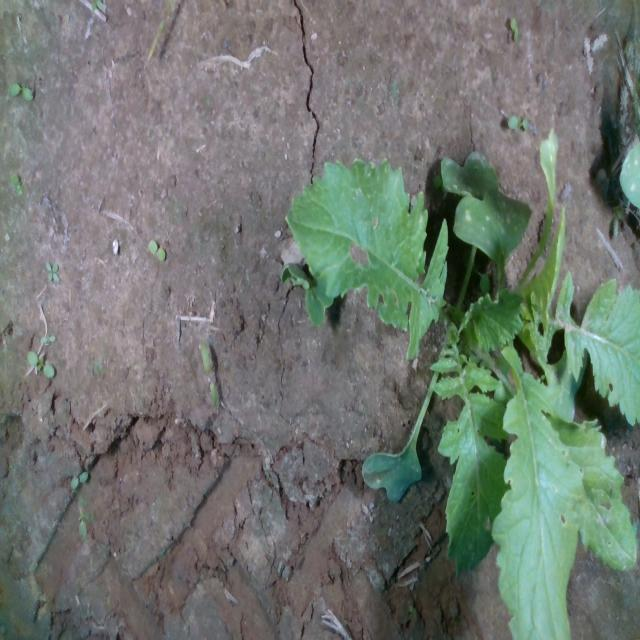weed: (198, 336, 220, 411), (25, 349, 55, 378), (8, 81, 34, 100), (69, 468, 89, 490), (506, 113, 530, 131), (147, 238, 165, 260), (44, 260, 60, 284), (10, 172, 24, 195), (509, 15, 519, 44), (39, 332, 55, 344)
